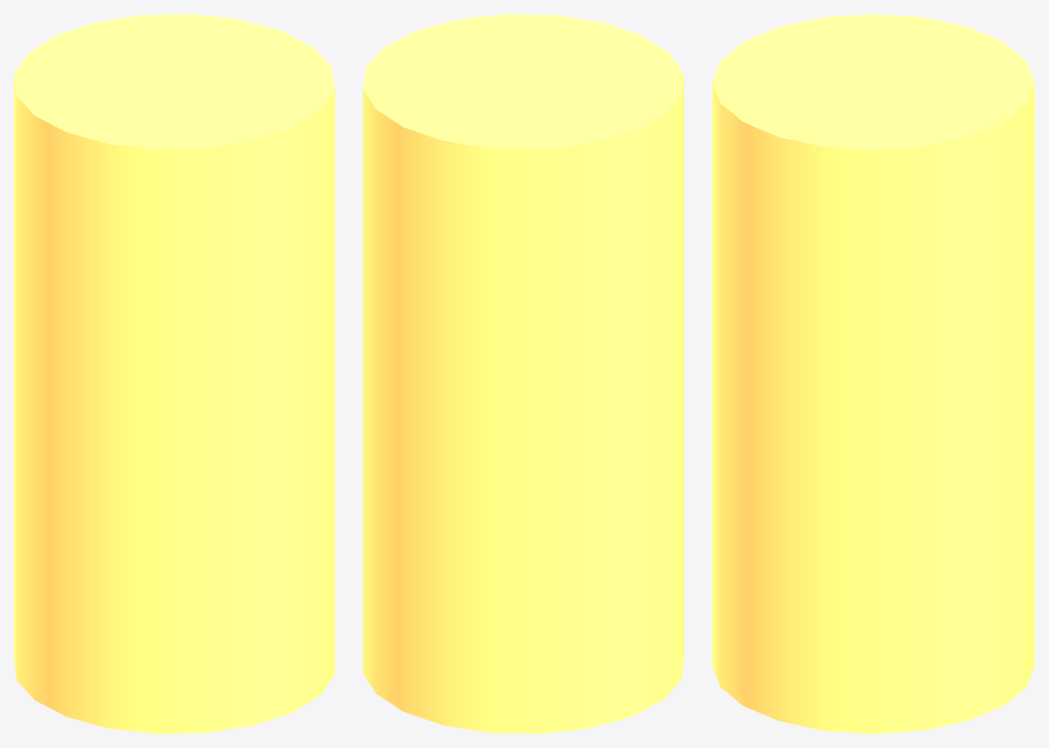
3 renders of one model, left to right at view 1: azimuth 30°, elevation 25°; view 2: azimuth 150°, elevation 25°; view 3: azimuth 270°, elevation 25°, orthographic.
Parts seen in each view (by area): view 1: Cylinder; view 2: Cylinder; view 3: Cylinder.
Boxes of the visible parts, x1=… form: Cylinder: x1=14, y1=14, x2=334, y2=733; Cylinder: x1=363, y1=14, x2=683, y2=733; Cylinder: x1=712, y1=14, x2=1034, y2=733.
Size of the model in its own units: 1 by 2 by 1.
